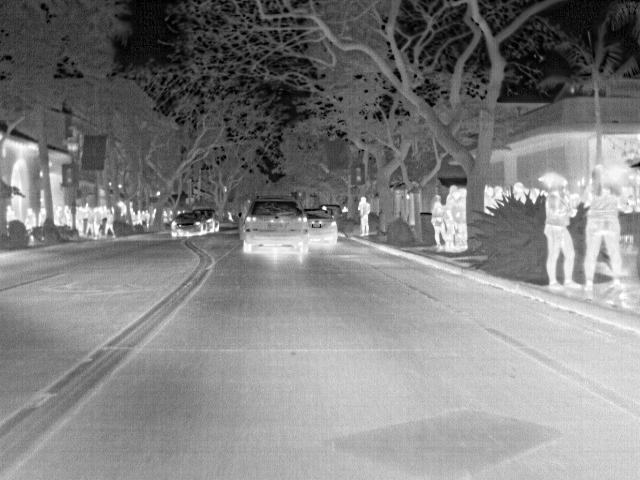car: (240, 195, 308, 252), (303, 207, 339, 247), (171, 213, 207, 238), (191, 207, 219, 233)
person: (582, 166, 626, 291), (542, 177, 584, 289), (444, 184, 462, 253), (428, 196, 443, 250), (355, 194, 373, 235), (102, 206, 118, 239), (80, 201, 93, 236), (510, 180, 528, 204), (24, 204, 38, 232), (61, 200, 74, 228), (4, 204, 17, 230)
